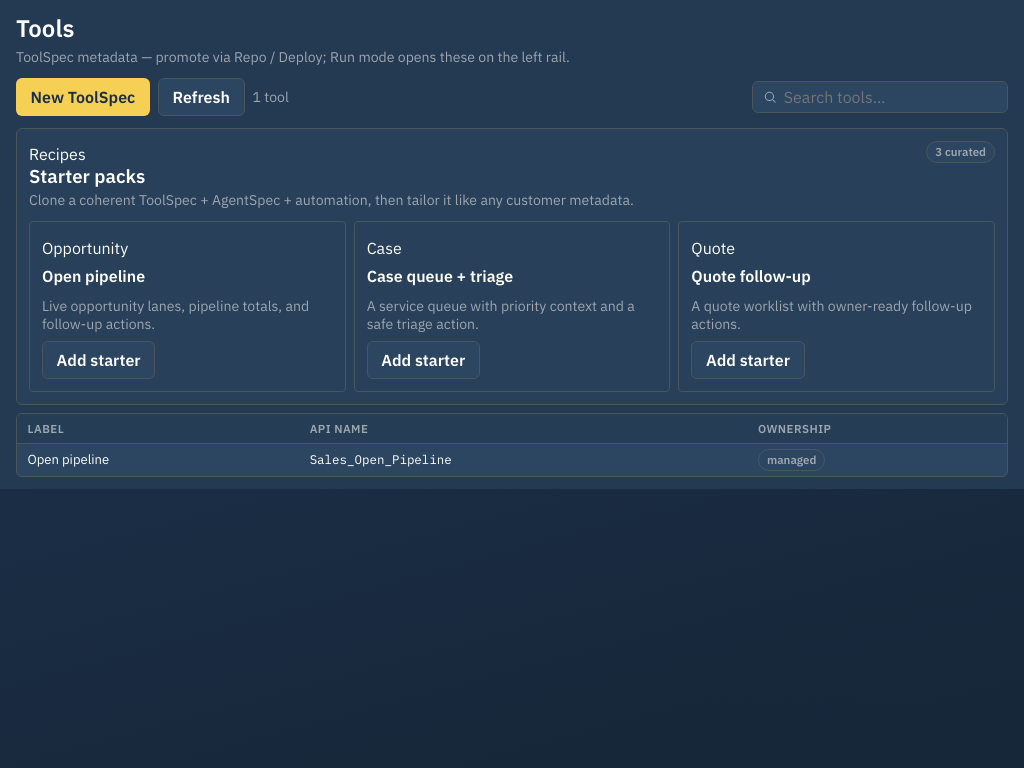
Test: ToolsPanel › lists ToolSpecs and opens detail
Expected: the element with test id "tool-spec-list" is shown, [16,413,1008,477]
Expected: the field with test id "tool-spec-search" is shown, [784,83,997,111]
Step 1. Click the button with test id "tool-spec-item-Sales_Open_Pipeline" → (68, 460), box [17,444,1007,476]
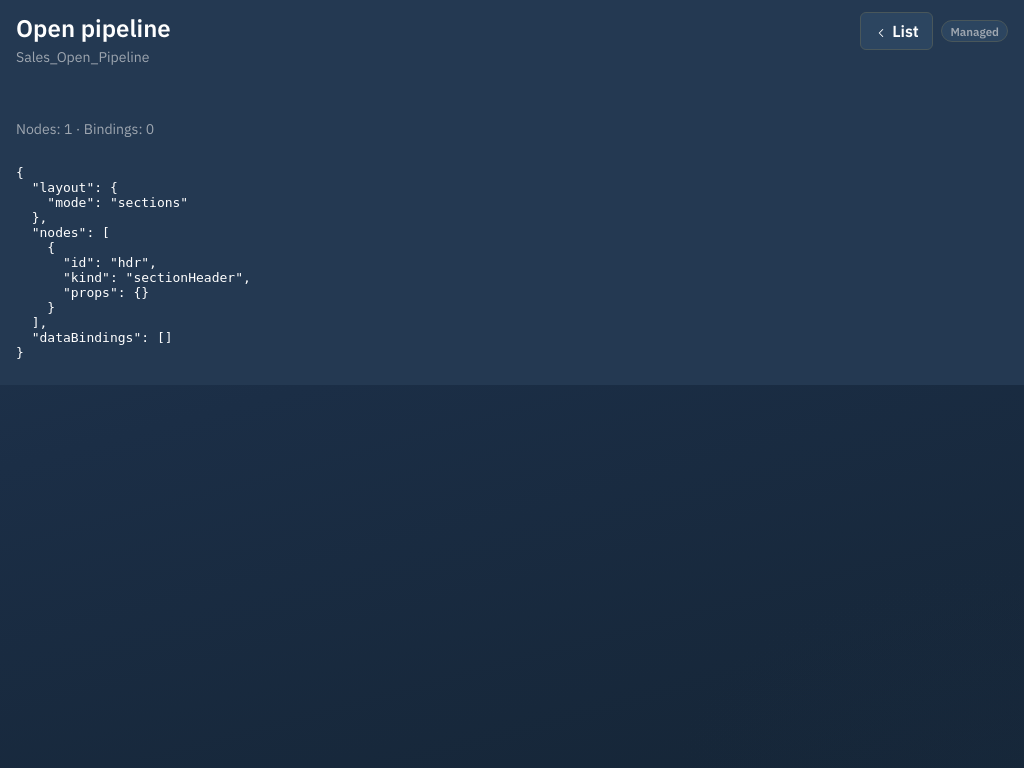
Expected: the text "Managed" is shown, [941,20,1008,42]
Now the text with test id "tool-spec-preview" is shown, box [16,165,251,360]
